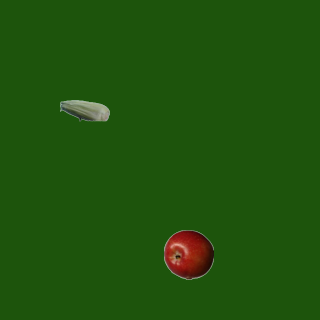Apple Braeburn: (163, 229, 213, 279)
Corn Husk: (59, 85, 109, 135)
